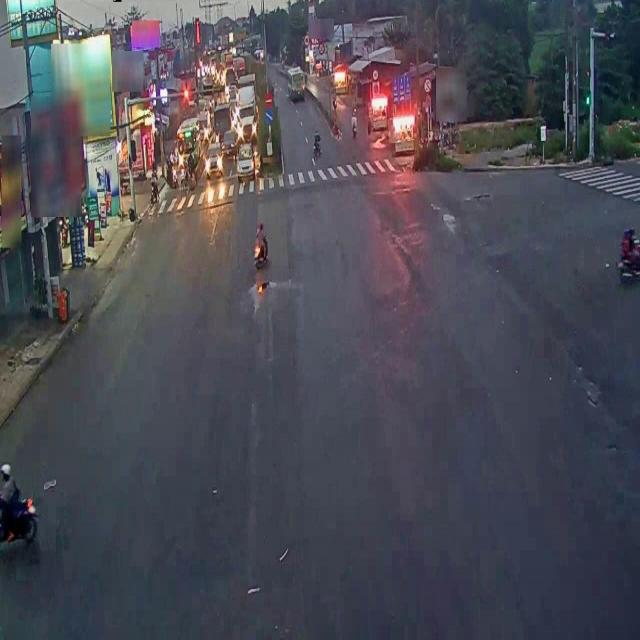motorcycle: (0, 455, 40, 549), (251, 219, 269, 274)
